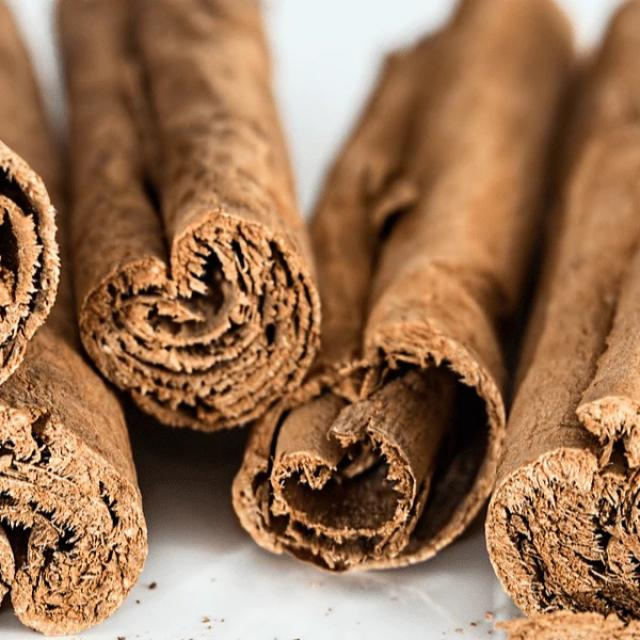Cinnamon: (232, 0, 572, 569), (58, 0, 320, 431), (486, 1, 640, 618), (0, 326, 146, 633), (0, 140, 60, 383), (576, 249, 640, 468)
